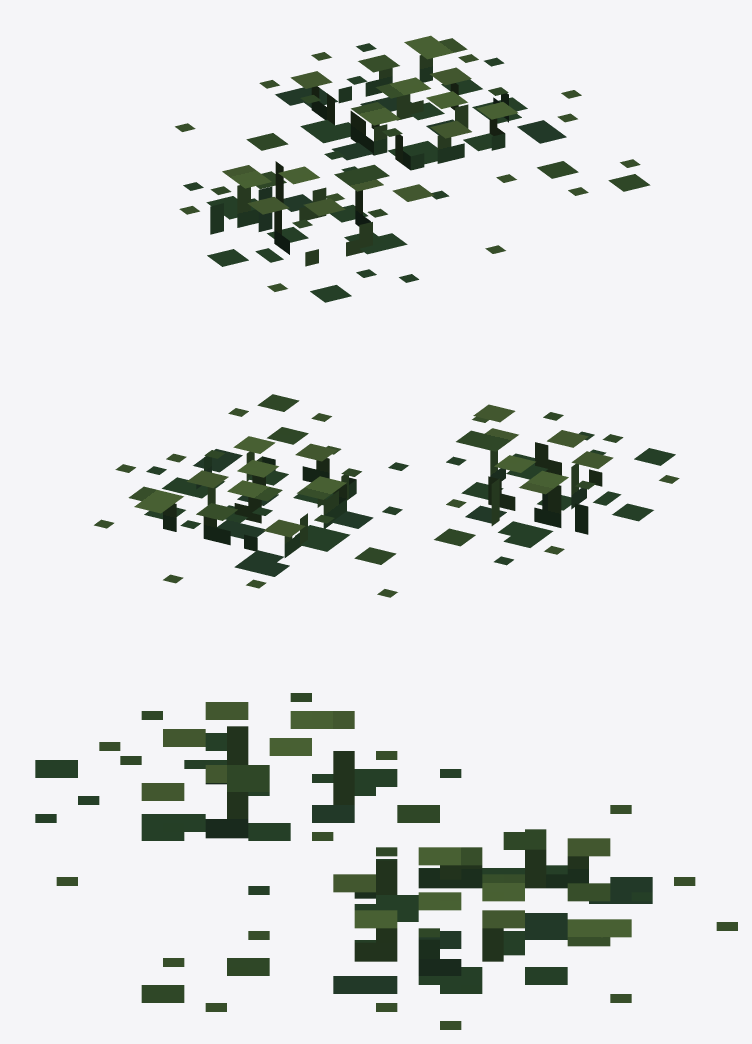
Rendered from ground-moss-3.gltf.
3 views of the same model, one above another, from view 1: azimuth 30°, elevation 25°; view 2: azimuth 150°, elevation 25°; view 3: azimuth 270°, elevation 25° (orthographic). The views are drawn at different scales.
Parts seen in each view (by area): view 1: cube (×7), cube inverted (×3); view 2: cube (×6), cube inverted (×3); view 3: cube (×7), cube inverted (×3).
Boxes of the visible parts, x1,y1,x2,y2 form: cube (×7): (175, 35, 650, 302); cube inverted (×3): (258, 55, 508, 231); cube (×6): (94, 394, 679, 597); cube inverted (×3): (207, 442, 602, 534); cube (×7): (35, 693, 737, 1029); cube inverted (×3): (205, 726, 588, 898).
Bounding box in the file's own units: 2.12 × 0.2079 × 2.12.
1 material, 1 textured.
